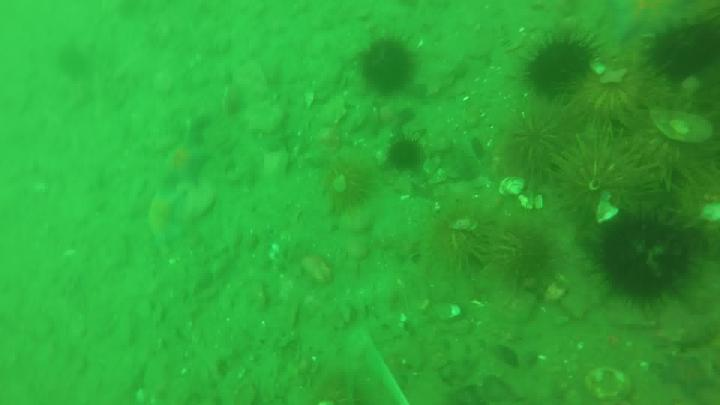echinus: (586, 212, 698, 315), (562, 127, 657, 219), (522, 28, 600, 105), (506, 109, 568, 186), (646, 18, 712, 81), (361, 36, 423, 96), (436, 209, 492, 273), (500, 224, 551, 291), (384, 130, 426, 168)
scallop: (651, 109, 712, 144), (598, 199, 620, 226), (502, 174, 525, 197), (436, 305, 461, 322)
starfish: (136, 192, 192, 259), (160, 123, 213, 191)
